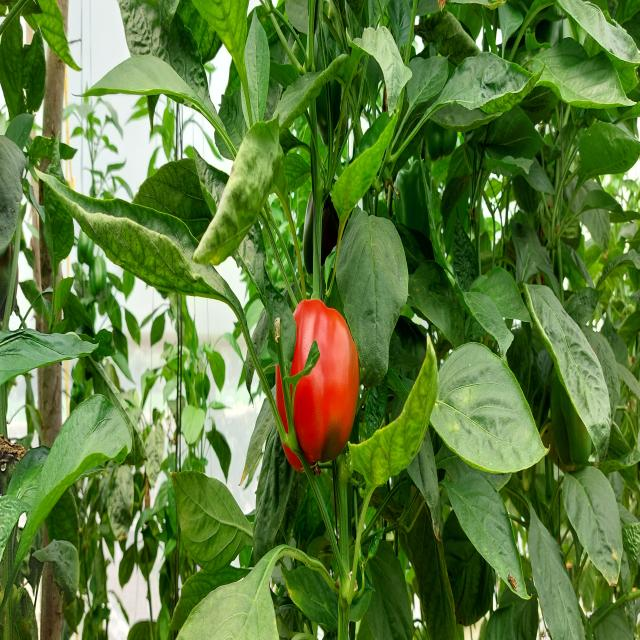Red-Ready-to-Harvest: (258, 279, 377, 487)
